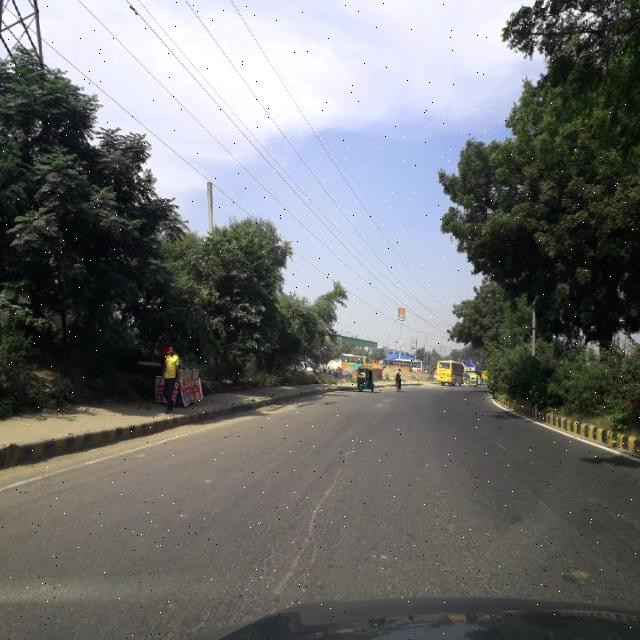D00: (272, 426, 360, 601)
